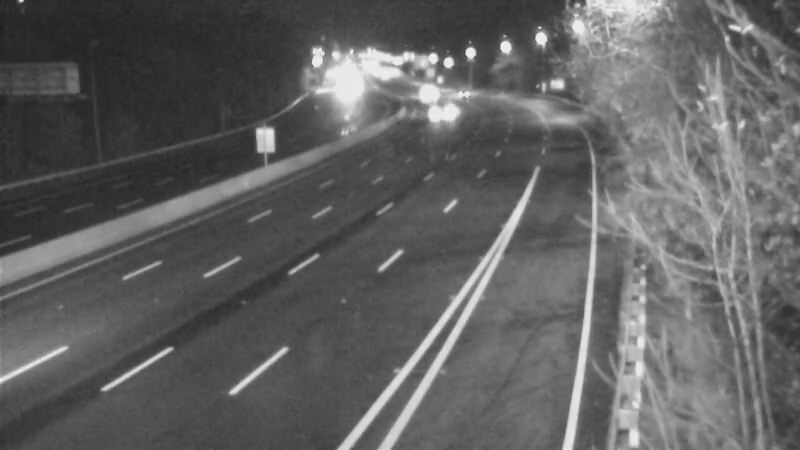vehicle: (439, 67, 489, 117), (400, 70, 450, 120), (416, 85, 466, 135)
